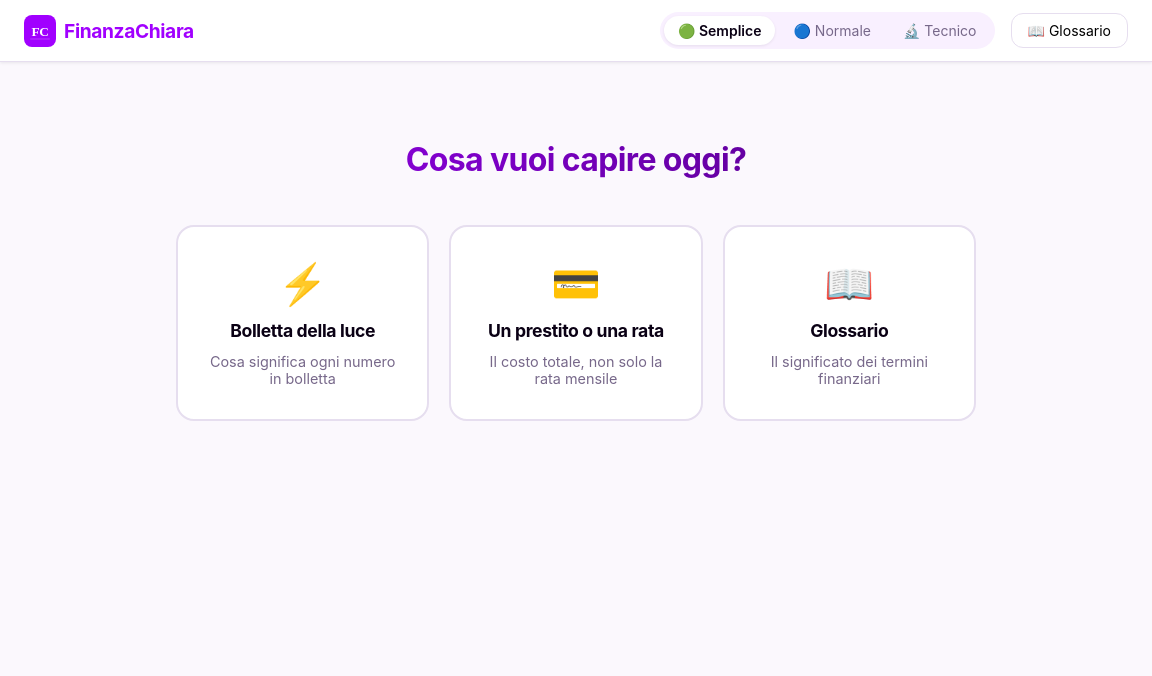
Test: Flusso utente completo › il link della spiegazione apre il glossario sul termine giusto
Step 1. Click the heading "Bolletta della luce" → {"x": 303, "y": 331}, box x1=230 y1=320 x2=375 y2=341
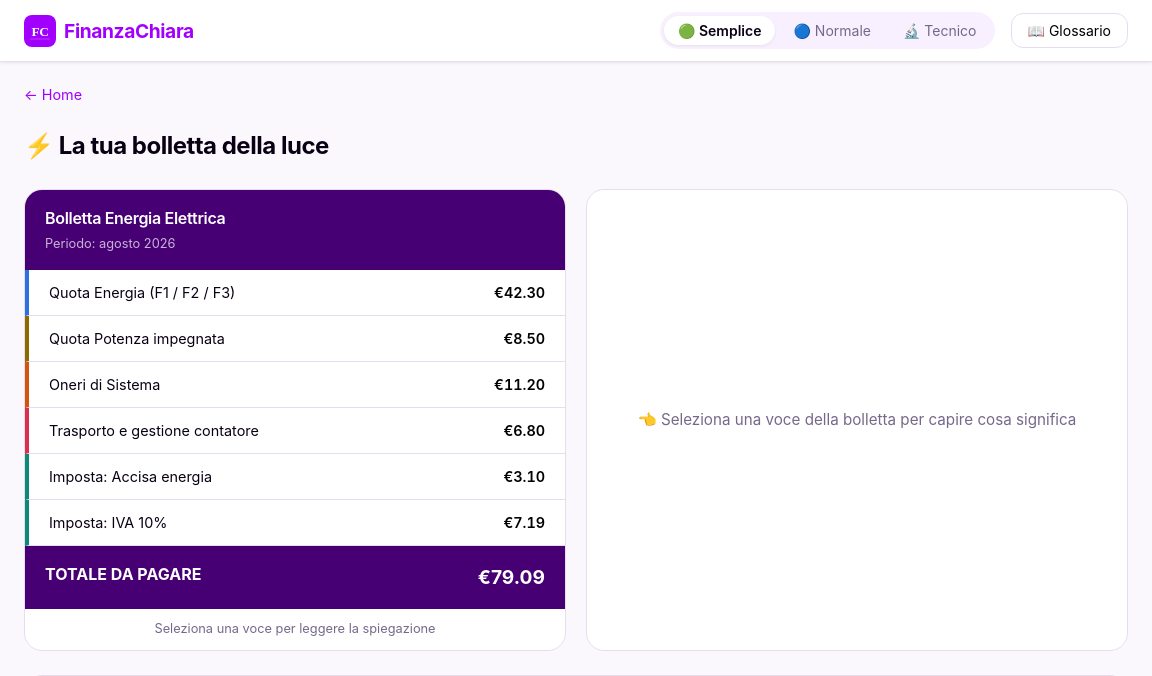
Step 2. Click the text "Oneri di Sistema" → {"x": 105, "y": 385}, box x1=49 y1=376 x2=160 y2=394
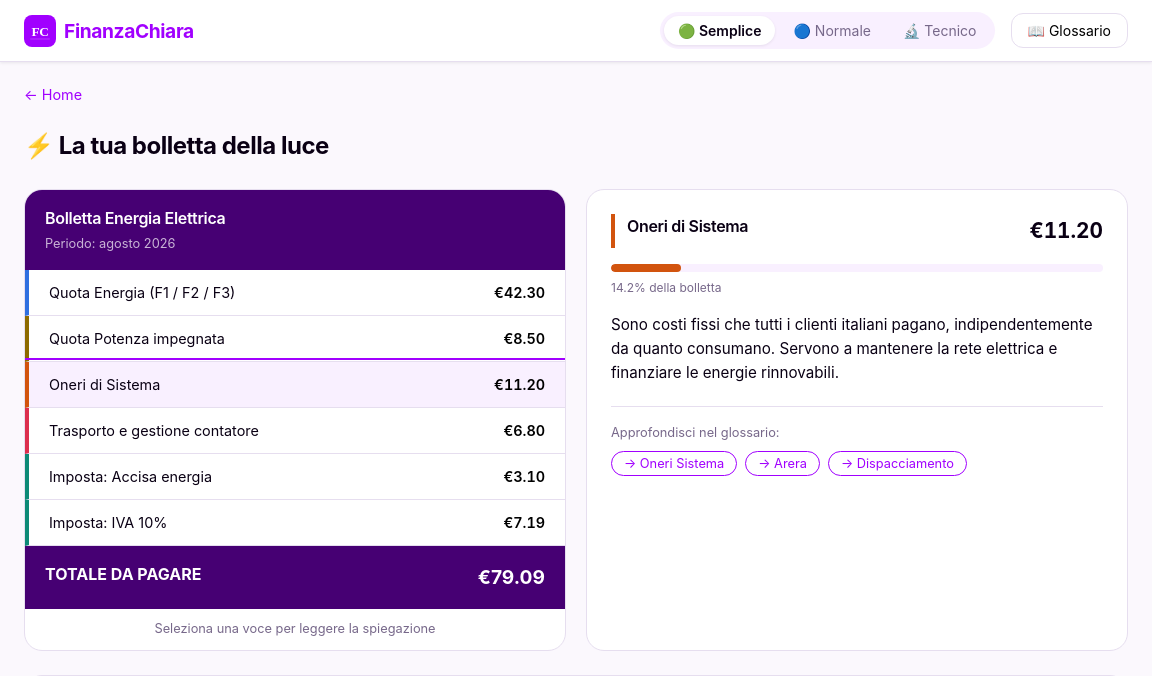
Step 3. Click the button "→ oneri sistema" → {"x": 674, "y": 464}, box x1=611 y1=451 x2=737 y2=476
(page scrolled)
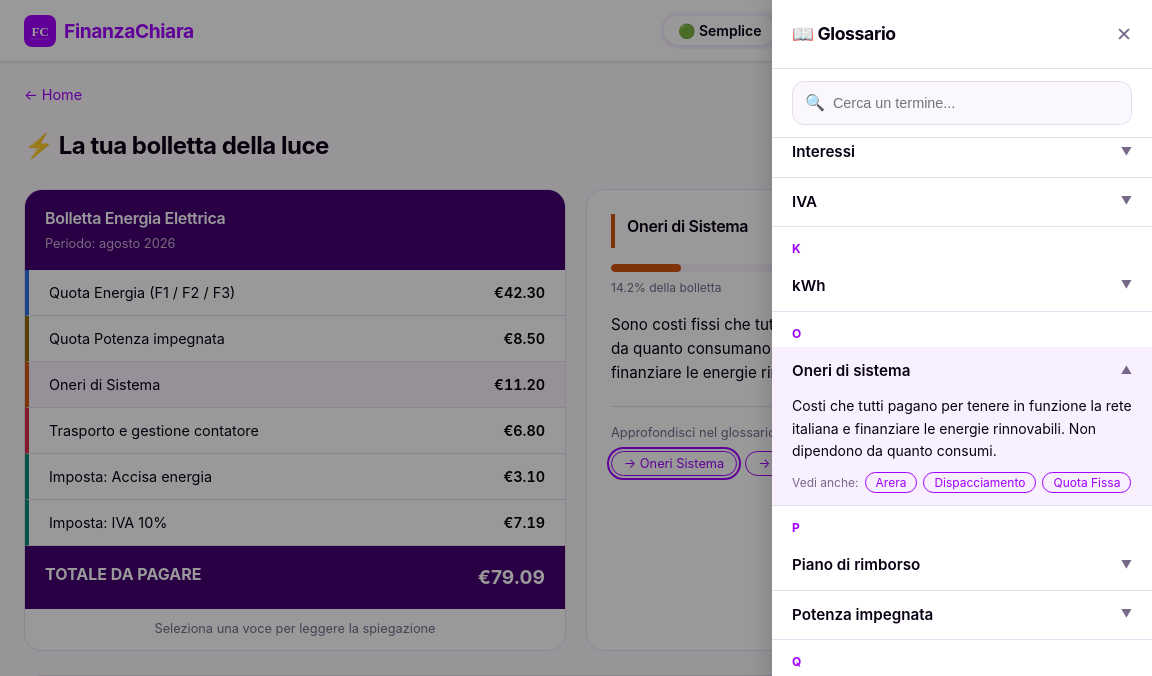
Result: the heading "📖 Glossario" is shown at x1=792 y1=20 x2=896 y2=48
Result: the text "Costi che tutti pagano per tenere in funzione la rete italiana" is shown at x1=792 y1=397 x2=1132 y2=459
